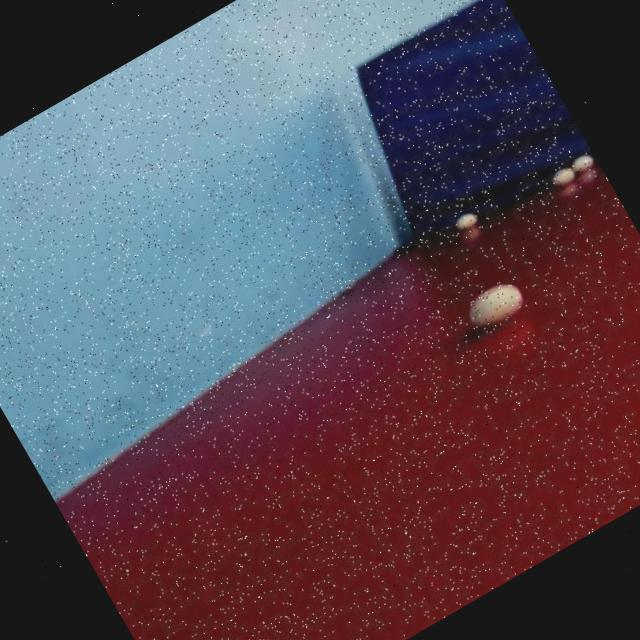ping-pong-ball: (444, 264, 540, 346), (531, 152, 588, 202), (560, 147, 602, 186), (446, 200, 487, 238)
